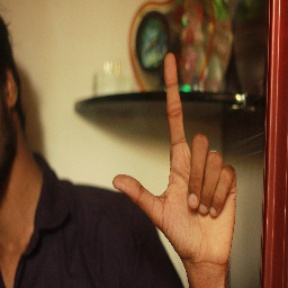L: (110, 50, 242, 265)
